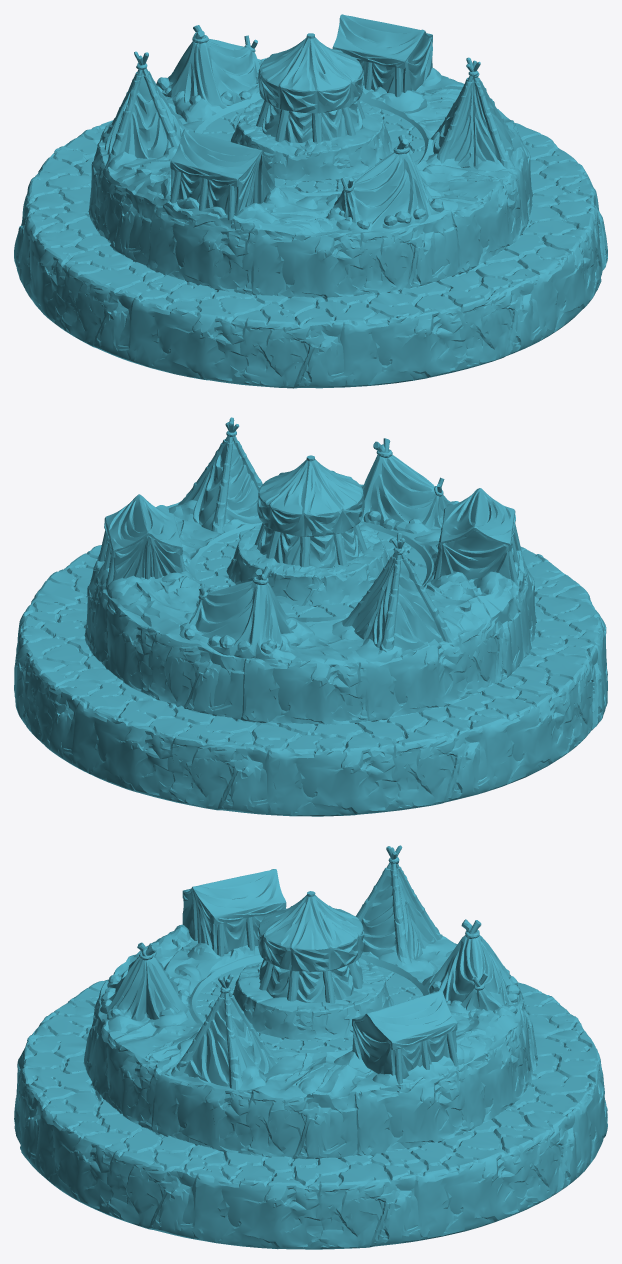
Rendered from Haven_Bottom_Blue.obj.
3 views of the same model, one above another, from view 1: azimuth 30°, elevation 25°; view 2: azimuth 150°, elevation 25°; view 3: azimuth 270°, elevation 25° (orthographic).
Visible parts, largest first — view 1: HavenBottom_Decimate_0; view 2: HavenBottom_Decimate_0; view 3: HavenBottom_Decimate_0.
Part boxes in pixels (x1=…): HavenBottom_Decimate_0: x1=14, y1=14, x2=607, y2=388; HavenBottom_Decimate_0: x1=14, y1=417, x2=607, y2=816; HavenBottom_Decimate_0: x1=14, y1=845, x2=607, y2=1249.
Bounding box in the file's own units: 2.7 × 1.18 × 2.7.
